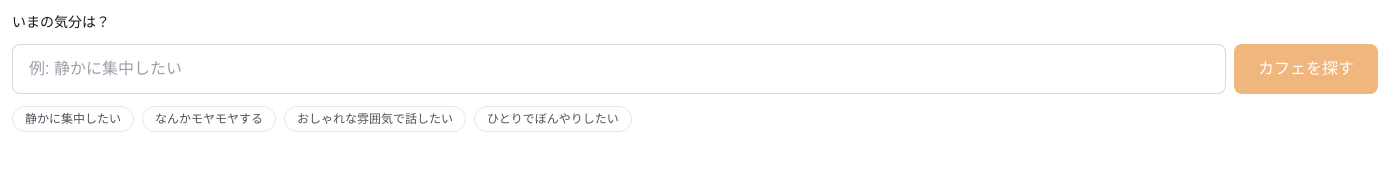
MoodInput › 候補を押すと入力欄に入る
The width and height of the screenshot is (1390, 172).
Click the button "なんかモヤモヤする" at {"x": 209, "y": 119}, box [142,106,276,132]
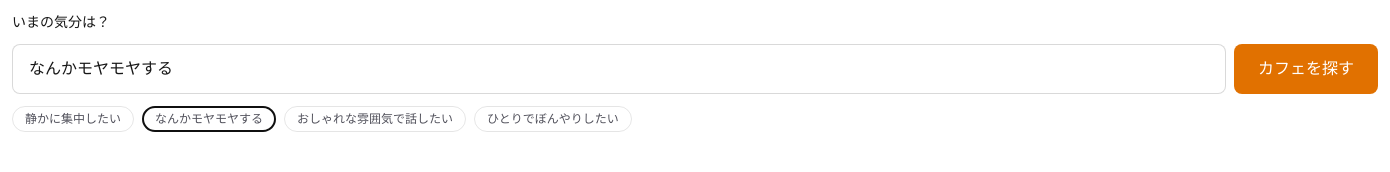
Expected: the field labelled "いまの気分は？" holds "なんかモヤモヤする", [12,44,1226,94]
